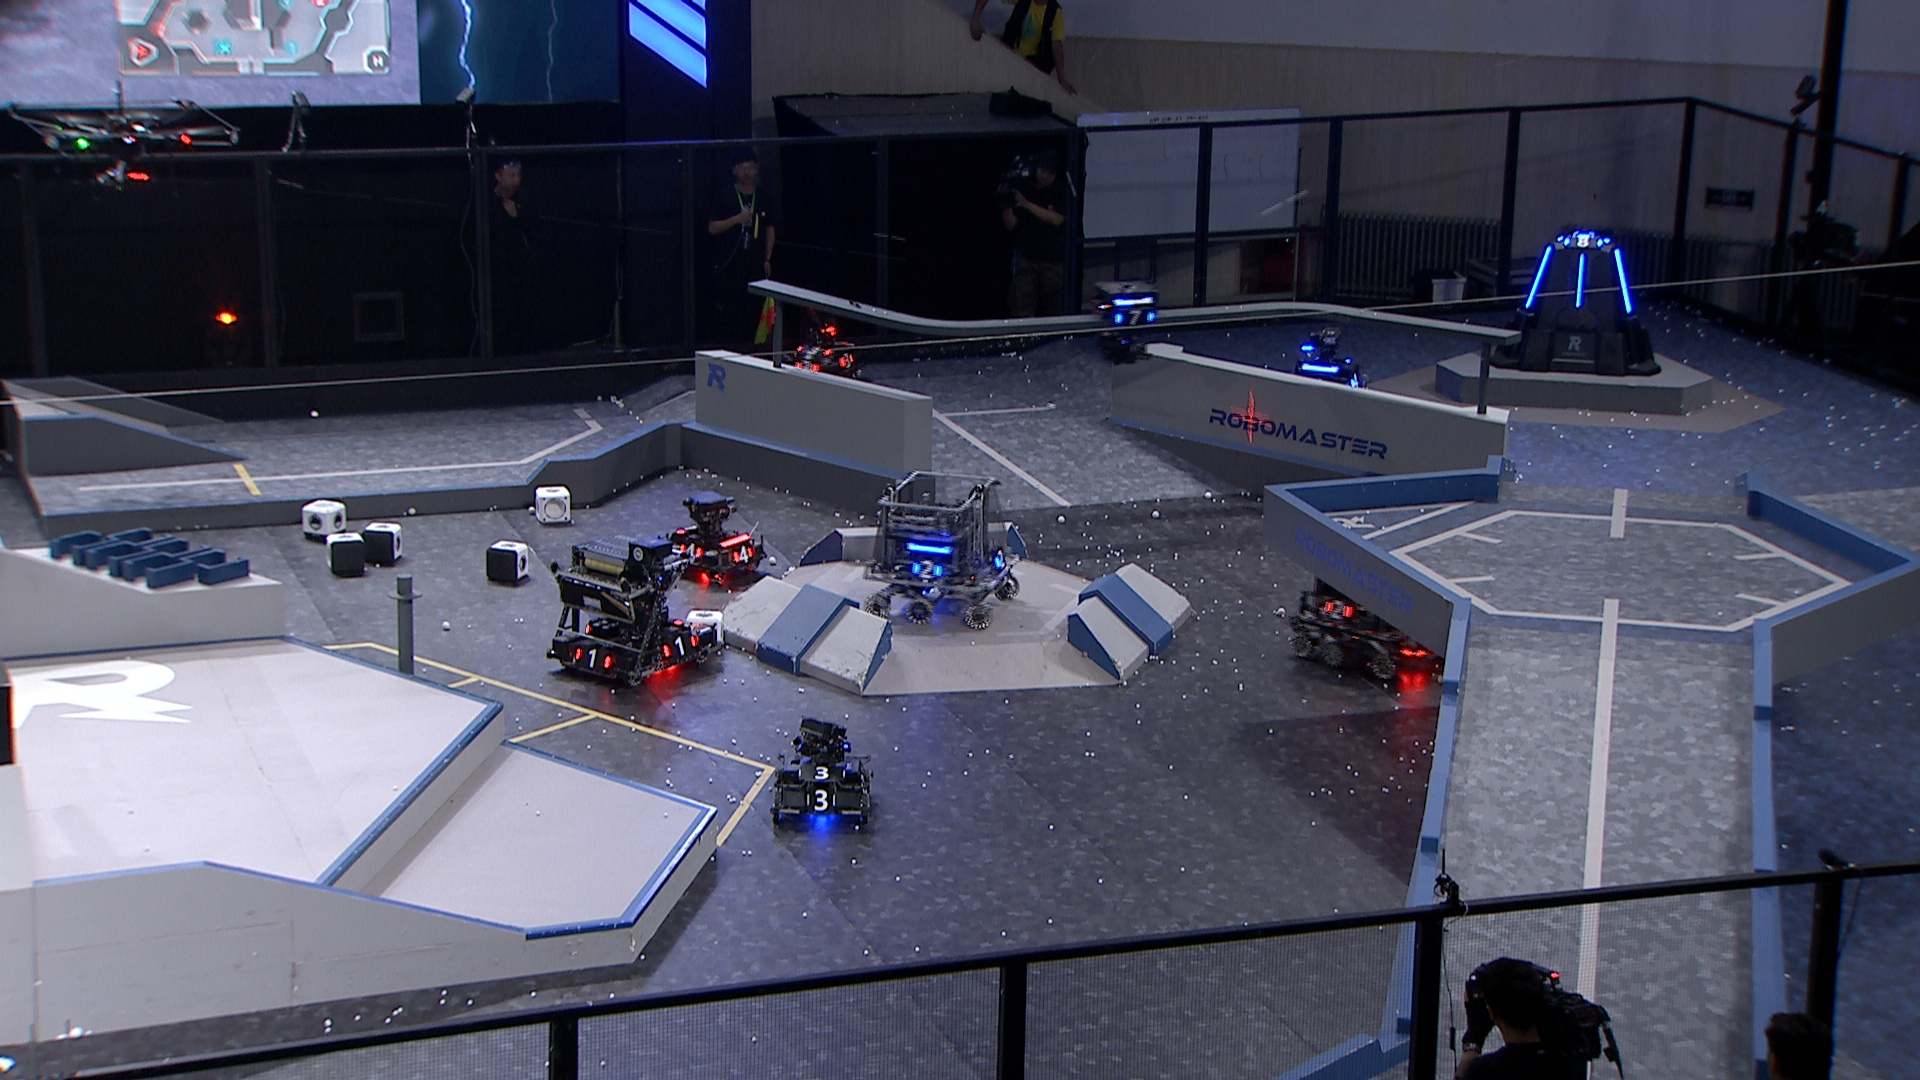armor: (1519, 243, 1555, 311), (1611, 249, 1634, 316), (1571, 249, 1590, 310), (796, 761, 847, 783), (659, 632, 699, 659), (1112, 305, 1155, 327), (803, 789, 839, 815), (571, 647, 612, 669), (1323, 597, 1353, 622), (910, 559, 945, 580), (1561, 233, 1605, 251), (731, 542, 756, 564), (793, 357, 822, 376), (678, 538, 702, 559), (837, 351, 858, 371), (674, 520, 700, 535), (993, 550, 1010, 571), (1348, 371, 1364, 390)
base: (1484, 228, 1665, 381)
car: (545, 531, 727, 688), (864, 465, 1026, 632), (1287, 516, 1443, 680), (766, 716, 877, 832), (665, 485, 765, 585), (783, 313, 868, 390)
watcher: (1091, 276, 1162, 367)
